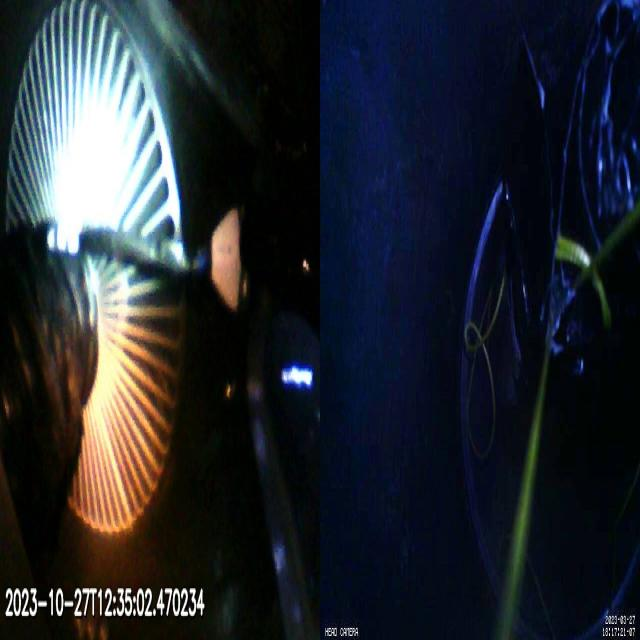white-dots: (46, 218, 80, 256)
